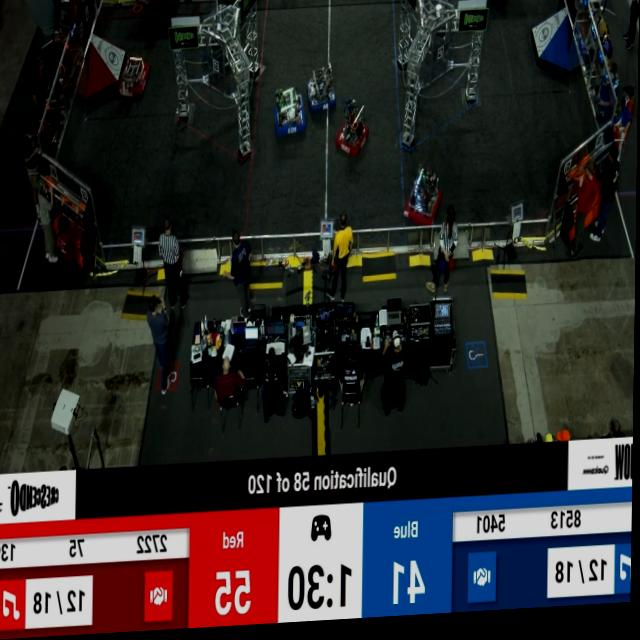Robot: (404, 169, 446, 236), (337, 103, 371, 166), (115, 50, 151, 104), (273, 89, 307, 145), (308, 69, 337, 120)
